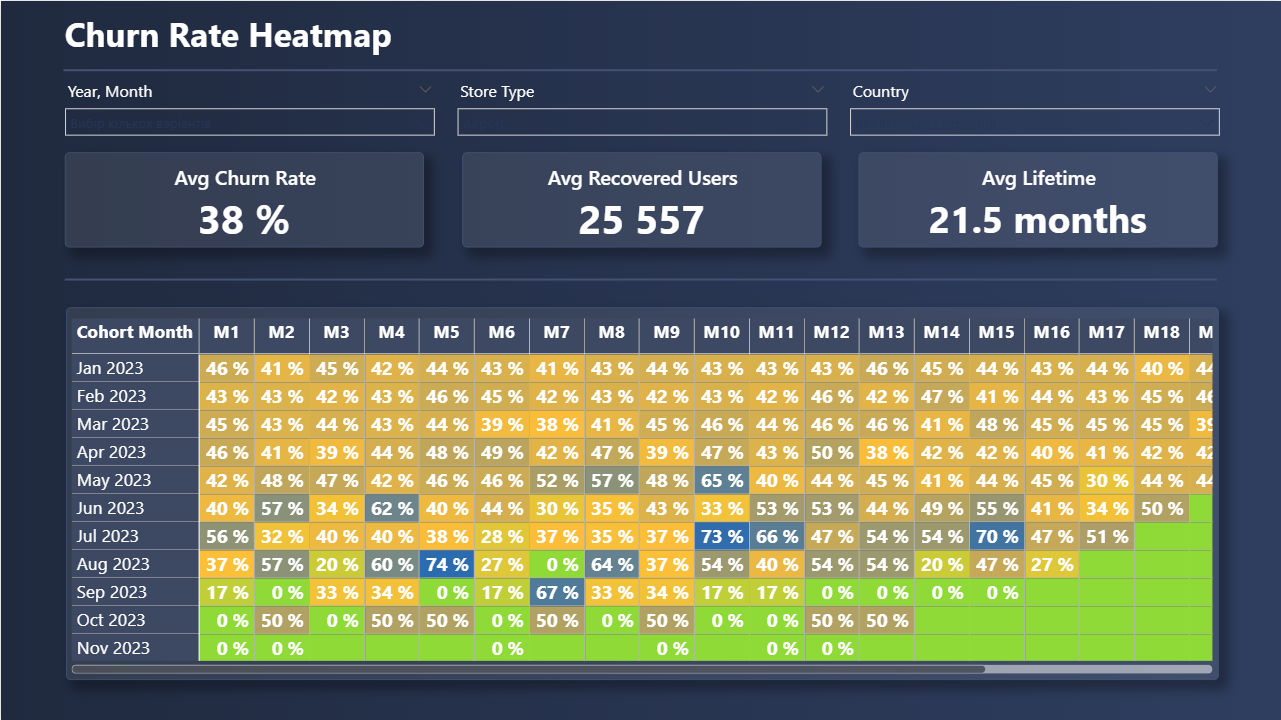

The dashboard page shown, as its layout file describes it:
{"tool":"powerbi","page":{"name":"Churn Rate by Cohort","canvas":[1280,720],"ordinal":2},"visuals":[{"type":"group","id":"g1","title":"Группа 2","box":[54.3,73.6,1173.9,61.5],"z":0},{"type":"slicer","fields":{"Values":["Calendar.Year","Calendar.Month"]},"box":[54.3,73.6,389.8,61.1],"z":0,"group":"g1"},{"type":"card","title":"Avg Churn Rate","fields":{"Values":["cohort_metrics.Current Churn"]},"box":[63.9,150.8,359.2,95],"z":0,"group":"g3"},{"type":"shape","title":"Retention Heatmap","box":[63.5,0,1153,65.1],"z":1000},{"type":"slicer","fields":{"Values":["cohort_metrics.country"]},"box":[838.7,73.6,389.8,61.1],"z":1000,"group":"g1"},{"type":"card","title":"Avg Recovered Users","fields":{"Values":["recovered_users.Recovered Users"]},"box":[461,150.8,359.2,95.3],"z":1000,"group":"g3"},{"type":"slicer","fields":{"Values":["cohort_metrics.store_type"]},"box":[446.5,73.6,389.8,61.1],"z":2000,"group":"g1"},{"type":"card","title":"Avg Lifetime","fields":{"Values":["_Measures.Avg Lifetime"]},"box":[858.1,150.8,359.2,95.3],"z":2000,"group":"g3"},{"type":"group","id":"g2","title":"Група 1","box":[65,306.2,1152.5,372.5],"z":2000},{"type":"shape","box":[63.9,272.7,1152.2,12.1],"z":3000},{"type":"shape","box":[62.7,65.1,1153.4,8.4],"z":5000},{"type":"group","id":"g3","title":"Група 2","box":[63.9,150.8,1153.4,95.3],"z":6000},{"type":"pivotTable","title":"Retention Rate by Cohort","fields":{"Columns":["cohort_metrics.MonthLabel"],"Rows":["Calendar.MonthYear1"],"Values":["Avg(cohort_metrics.churn_rate)"]},"box":[65,306.2,1152.5,372.5],"z":6000,"group":"g2"}]}

Visuals, with their boxes in screenshot pixels (x1, y1, x2, y2), scaled from the page's 1280x720 canvas onto the 1281x720 screenshot:
"Группа 2" group: (left=54, top=74, right=1229, bottom=135)
slicer - Calendar.Year x Calendar.Month: (left=54, top=74, right=444, bottom=135)
"Avg Churn Rate" card: (left=64, top=151, right=423, bottom=246)
"Retention Heatmap" shape: (left=64, top=0, right=1217, bottom=65)
slicer - cohort_metrics.country: (left=839, top=74, right=1229, bottom=135)
"Avg Recovered Users" card: (left=461, top=151, right=821, bottom=246)
slicer - cohort_metrics.store_type: (left=447, top=74, right=837, bottom=135)
"Avg Lifetime" card: (left=859, top=151, right=1218, bottom=246)
"Група 1" group: (left=65, top=306, right=1218, bottom=679)
shape: (left=64, top=273, right=1217, bottom=285)
shape: (left=63, top=65, right=1217, bottom=74)
"Група 2" group: (left=64, top=151, right=1218, bottom=246)
"Retention Rate by Cohort" pivotTable: (left=65, top=306, right=1218, bottom=679)
